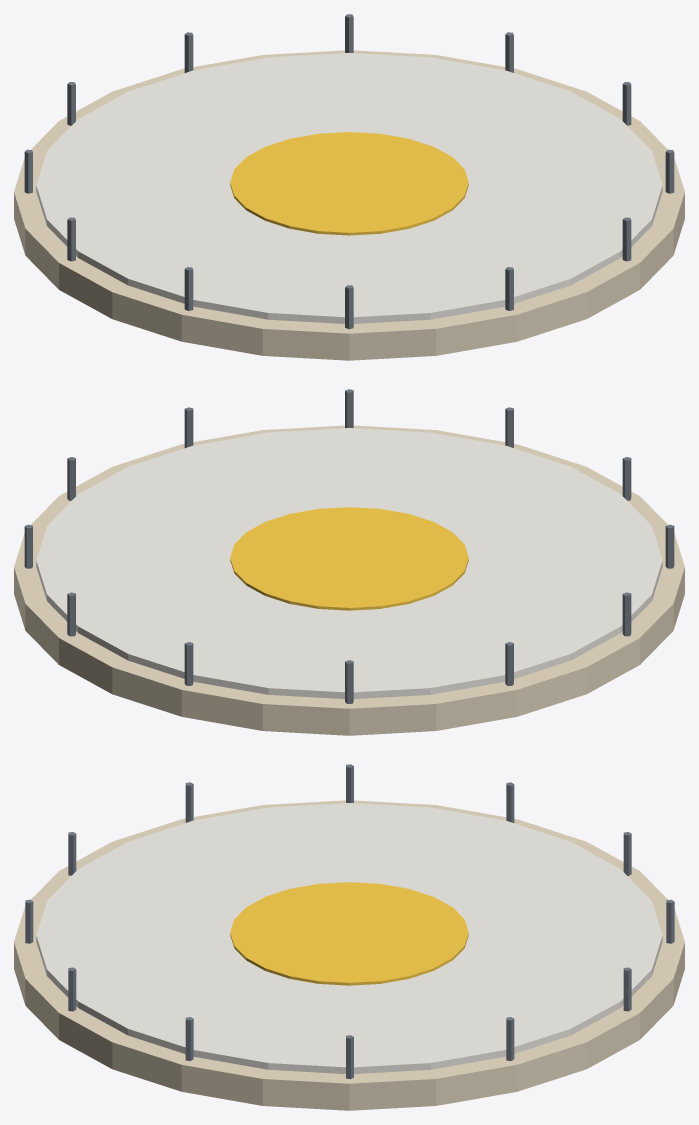
Rendered from Plane_Deck.fbx.
3 views of the same model, one above another, from view 1: azimuth 30°, elevation 25°; view 2: azimuth 150°, elevation 25°; view 3: azimuth 270°, elevation 25° (orthographic).
Visible parts, largest first — view 1: Deck; view 2: Deck; view 3: Deck.
Boxes of the visible parts, x1,y1,x2,y2 form: Deck: [14, 14, 684, 360]; Deck: [14, 389, 684, 735]; Deck: [14, 764, 684, 1110].
Size of the model in its own units: 9 by 1 by 9.
